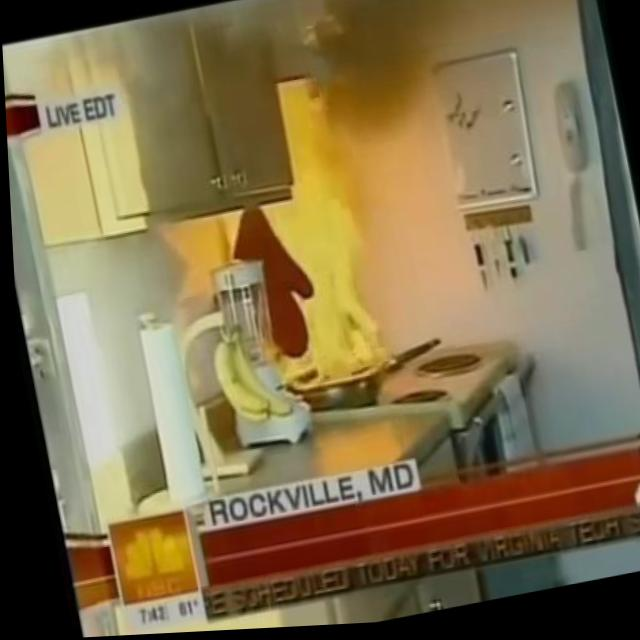fire: (187, 69, 425, 402)
